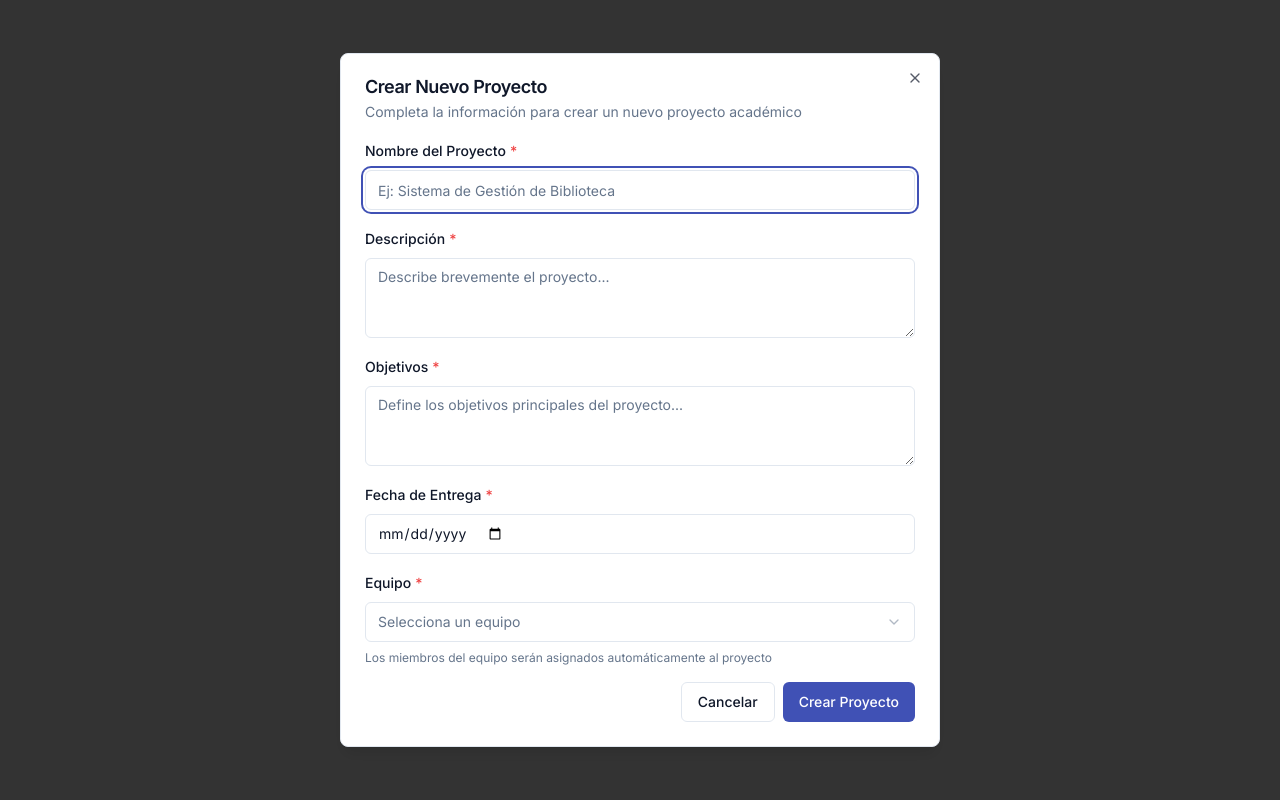
CreateProjectDialog › muestra errores cuando se intenta crear el proyecto sin datos obligatorios
Click the button "Crear Proyecto".
click(849, 702)  # box [783,682,915,722]
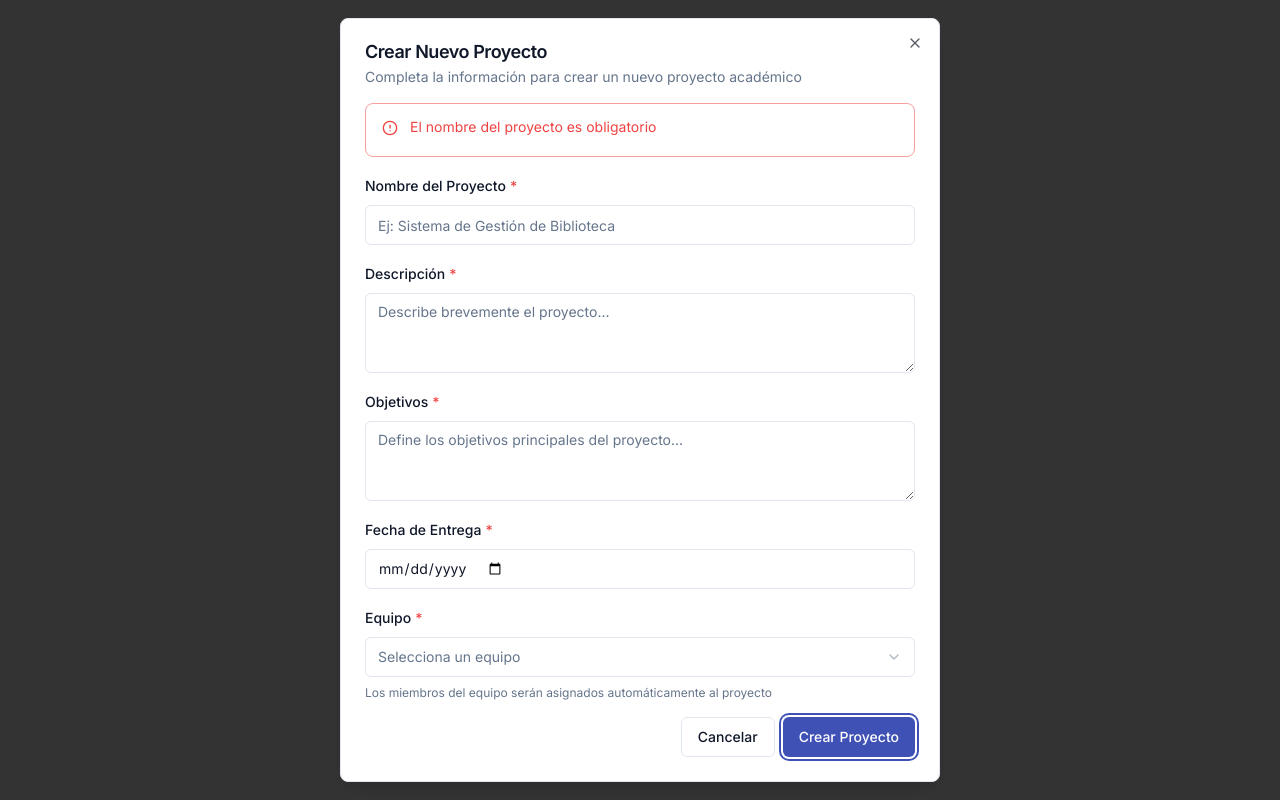
Expected: the message "El nombre del proyecto es obligatorio" is shown, [365,103,915,157]
Expected: the text "El nombre del proyecto es obligatorio" is shown, [410,118,656,135]
